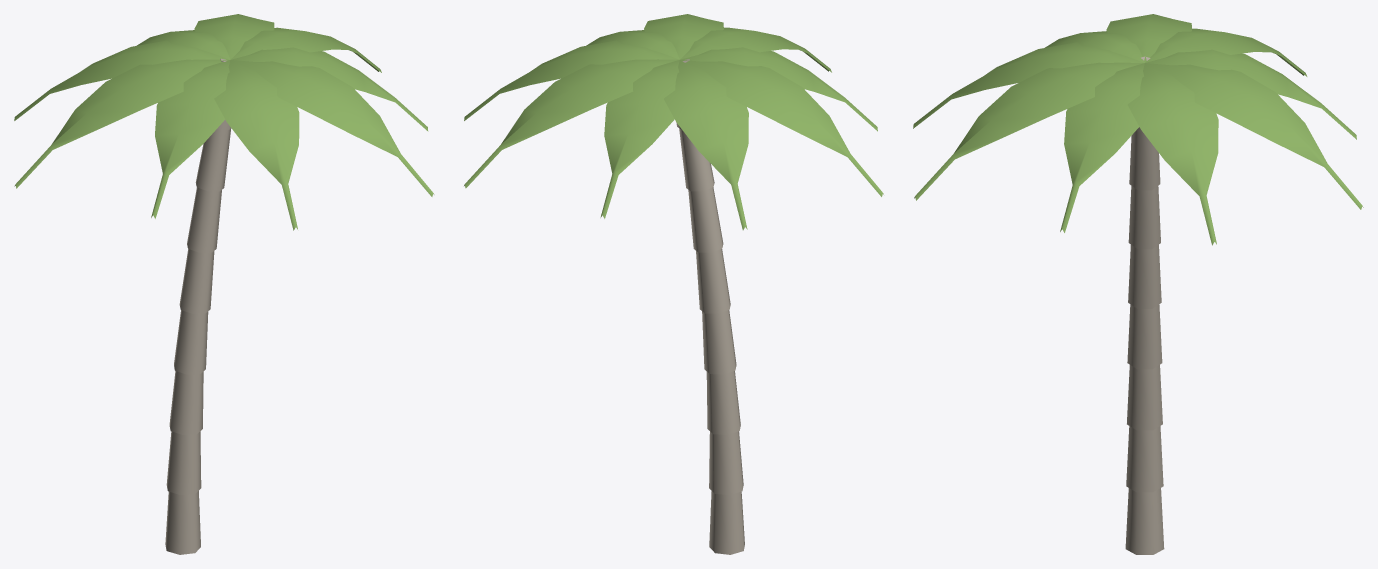
Rendered from tree_palm.glb.
3 views of the same model, side by side, from view 1: azimuth 30°, elevation 25°; view 2: azimuth 150°, elevation 25°; view 3: azimuth 270°, elevation 25° (orthographic). The views are drawn at different scales.
Visible parts, largest first — view 1: tree_palm; view 2: tree_palm; view 3: tree_palm.
Part boxes in pixels (bbox=[...]): tree_palm: bbox=[14, 14, 434, 554]; tree_palm: bbox=[464, 14, 883, 554]; tree_palm: bbox=[913, 14, 1363, 554].
Size of what is drawn, in the model's own units: 7.39 by 8.66 by 6.87.
